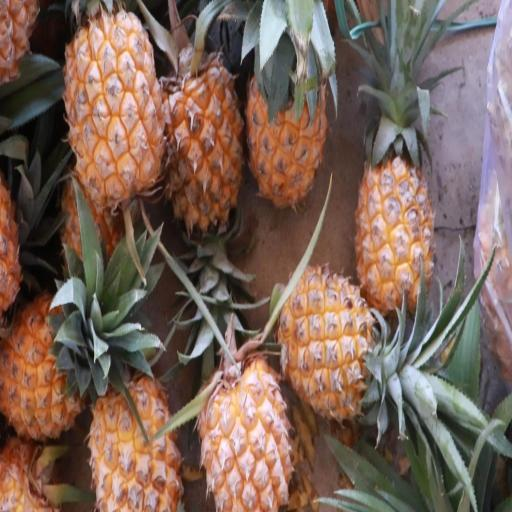Pineapple - v8 v1: (62, 7, 170, 221), (350, 82, 436, 324), (154, 36, 248, 238), (277, 260, 390, 425), (241, 11, 328, 214), (194, 351, 295, 512), (1, 281, 91, 450), (86, 362, 187, 512)
